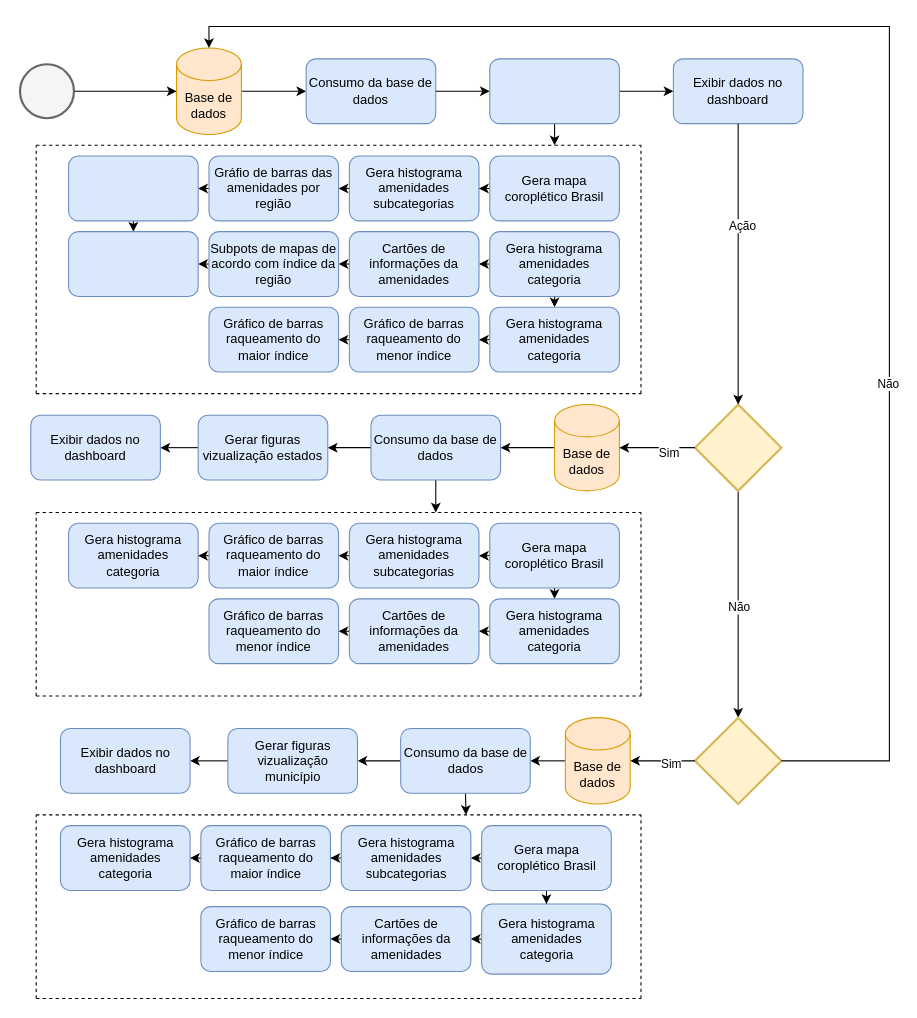
Image size: 917x1018. Some labels were removed from this diagram. The shapes that lost their labels are listed below. From the top down, each one's centre as x and y in pixels, then its label:
At pixel 46 91: "ínicio".
At pixel 554 91: "Gerar figuras vizualização Brasil".
At pixel 133 188: "Gráfico de dispersão dispersão dos índices".
At pixel 133 263: "Gráfico de pizza de quantidade de hexágonos".
At pixel 737 447: "filtro por município?".
At pixel 737 760: "filtro por estado?".
